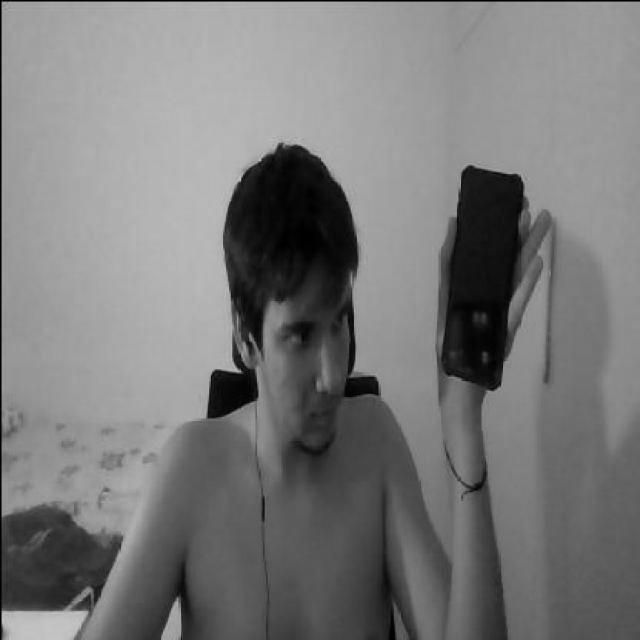fake: (441, 162, 524, 398)
real: (259, 277, 356, 455)
